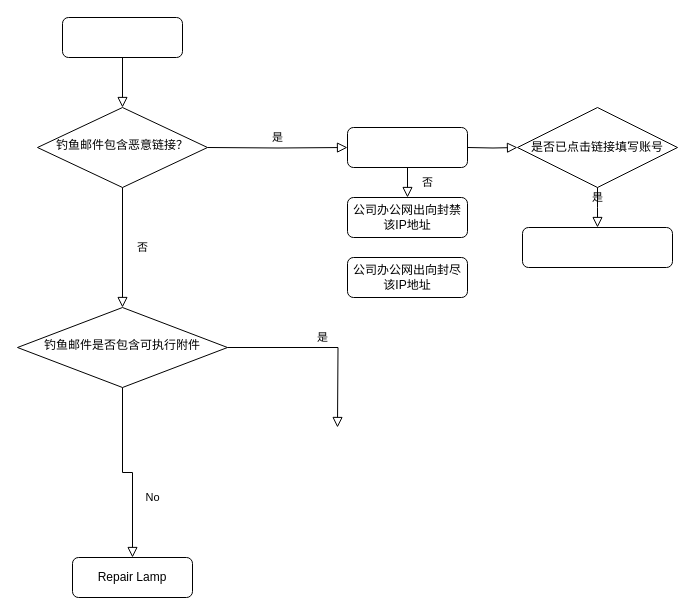
This 695x615 diagram has some shape labels left out. Here are the shapes that lost their labels. From the top down, the centre of each, then its label:
pixel 122 37: 确认为钓鱼邮件
pixel 407 147: 查询恶意链接域名IP地址
pixel 597 247: 立即修改账号密码及所有使用相同密码的账号。终端断网查杀病毒。
